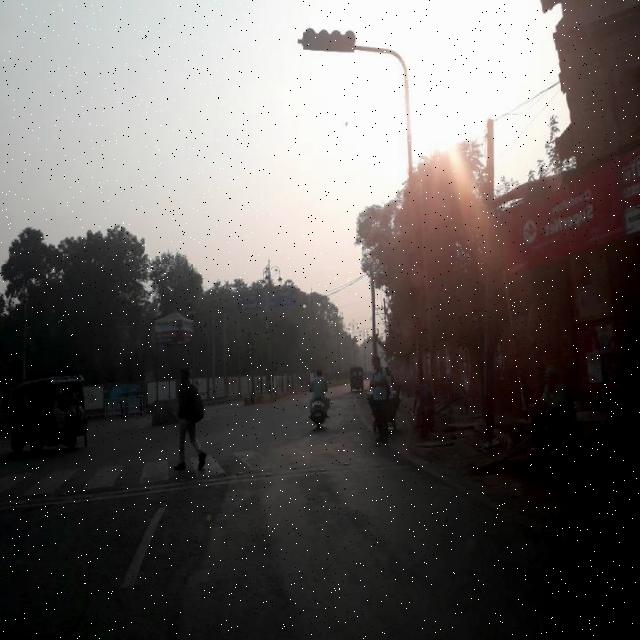D43: (86, 430, 367, 500)
